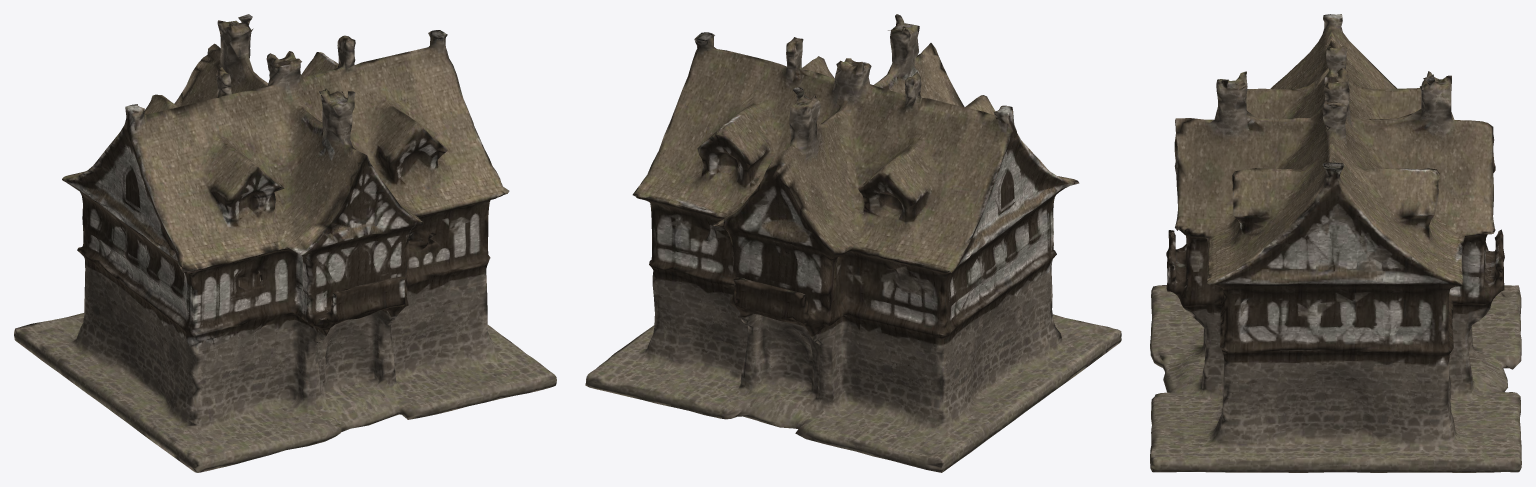
File: house_tudor_stone_base.glb
3 renders of one model, left to right at view 1: azimuth 30°, elevation 25°; view 2: azimuth 150°, elevation 25°; view 3: azimuth 270°, elevation 25°, orthographic.
Visible parts, largest first — view 1: house_tudor_stone_base; view 2: house_tudor_stone_base; view 3: house_tudor_stone_base.
Boxes of the visible parts, x1=… form: house_tudor_stone_base: x1=14, y1=14, x2=556, y2=472; house_tudor_stone_base: x1=585, y1=14, x2=1121, y2=472; house_tudor_stone_base: x1=1150, y1=14, x2=1521, y2=472.
Bounding box in the file's own units: 10.95 × 9 × 9.7.
Materials: 1 (1 with a texture image).
